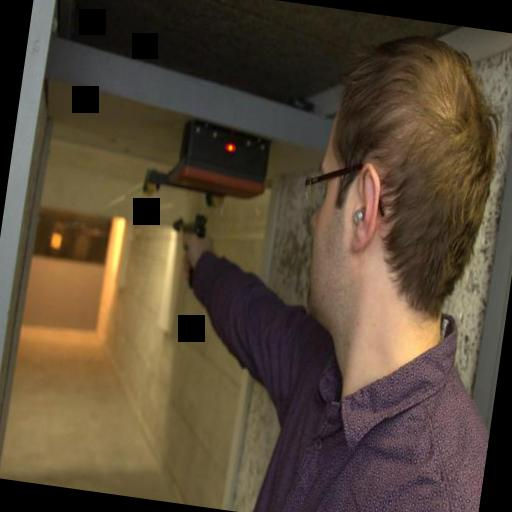Handgun: (160, 206, 214, 289)
